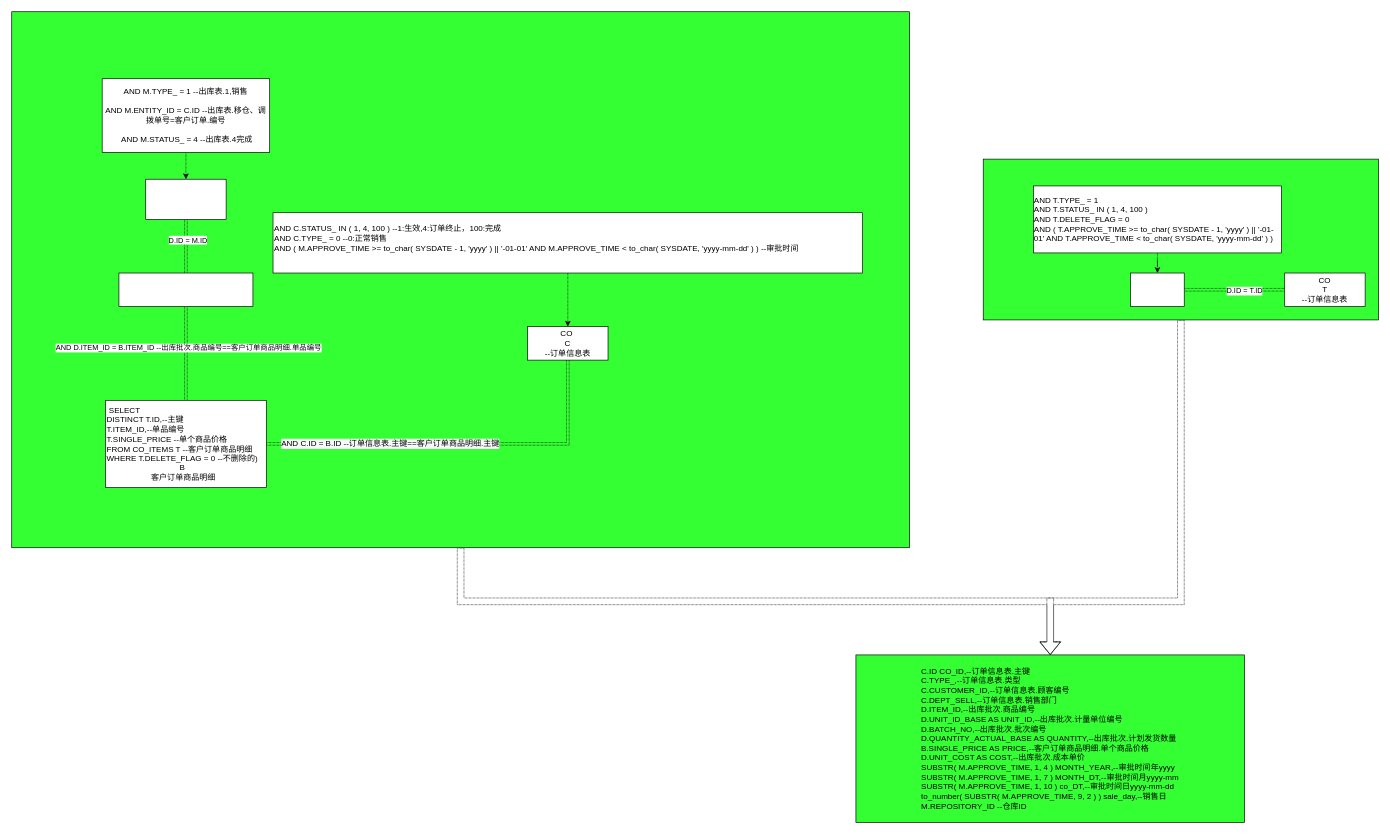
Image size: 1390x834. Some labels were removed from this diagram. The centre of each missing label's shape, as x and y in pixels:
CO_BATCH D --订单批次表: point 1157,289
WH_DELIVERYS M --出库表(用于发货): point 185,199
WH_DELIVERYS_BATCH D --出库批次: point 185,289
